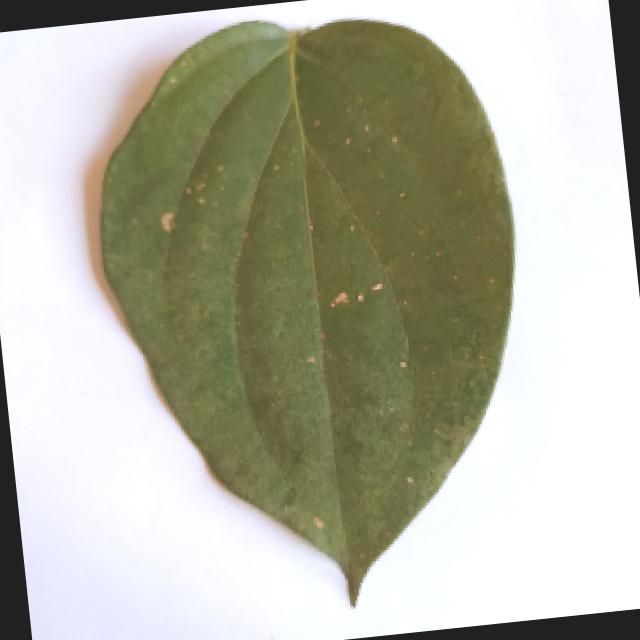pollu-disease: (66, 6, 574, 630)
